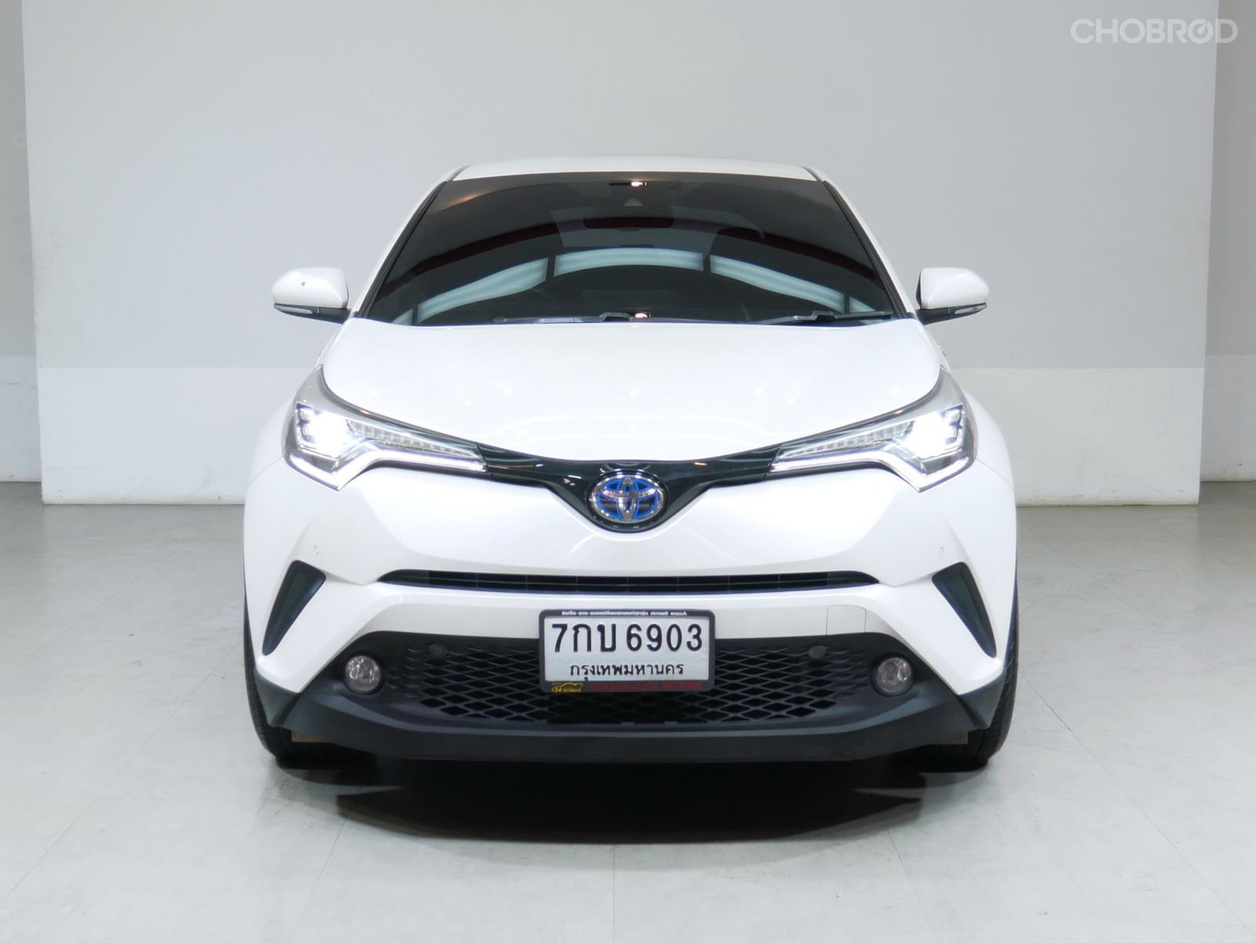license-plate: (533, 598, 725, 699)
